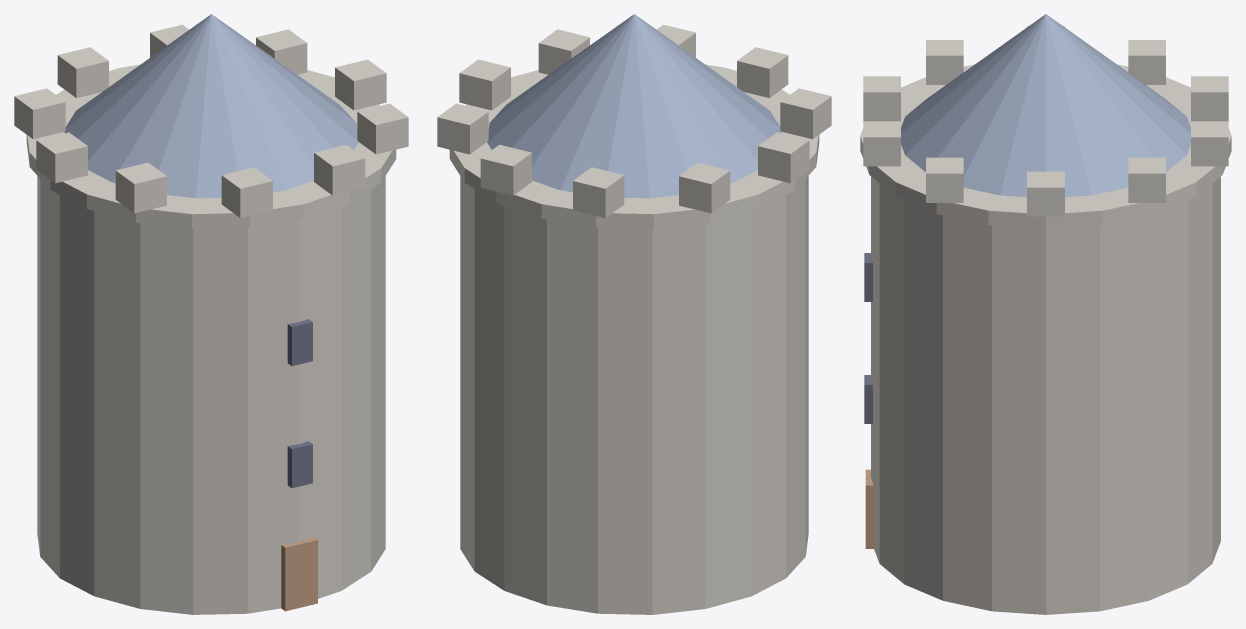
File: round_tower.glb
3 renders of one model, left to right at view 1: azimuth 30°, elevation 25°; view 2: azimuth 150°, elevation 25°; view 3: azimuth 270°, elevation 25°, orthographic.
Visible parts, largest first — view 1: round_tower_stone, round_tower_roof_slate, round_tower_door, round_tower_black; view 2: round_tower_stone, round_tower_roof_slate; view 3: round_tower_stone, round_tower_roof_slate, round_tower_black, round_tower_door.
Part boxes in pixels (bbox=[...]): round_tower_stone: bbox=[14, 24, 408, 614]; round_tower_roof_slate: bbox=[64, 14, 358, 198]; round_tower_door: bbox=[281, 537, 317, 611]; round_tower_black: bbox=[287, 319, 312, 488]; round_tower_stone: bbox=[437, 24, 831, 614]; round_tower_roof_slate: bbox=[487, 14, 781, 198]; round_tower_stone: bbox=[860, 26, 1231, 614]; round_tower_roof_slate: bbox=[901, 14, 1190, 197]; round_tower_black: bbox=[864, 253, 872, 423]; round_tower_door: bbox=[865, 469, 873, 548].
Size of the model in its own units: 14.2 by 21.6 by 13.8.
